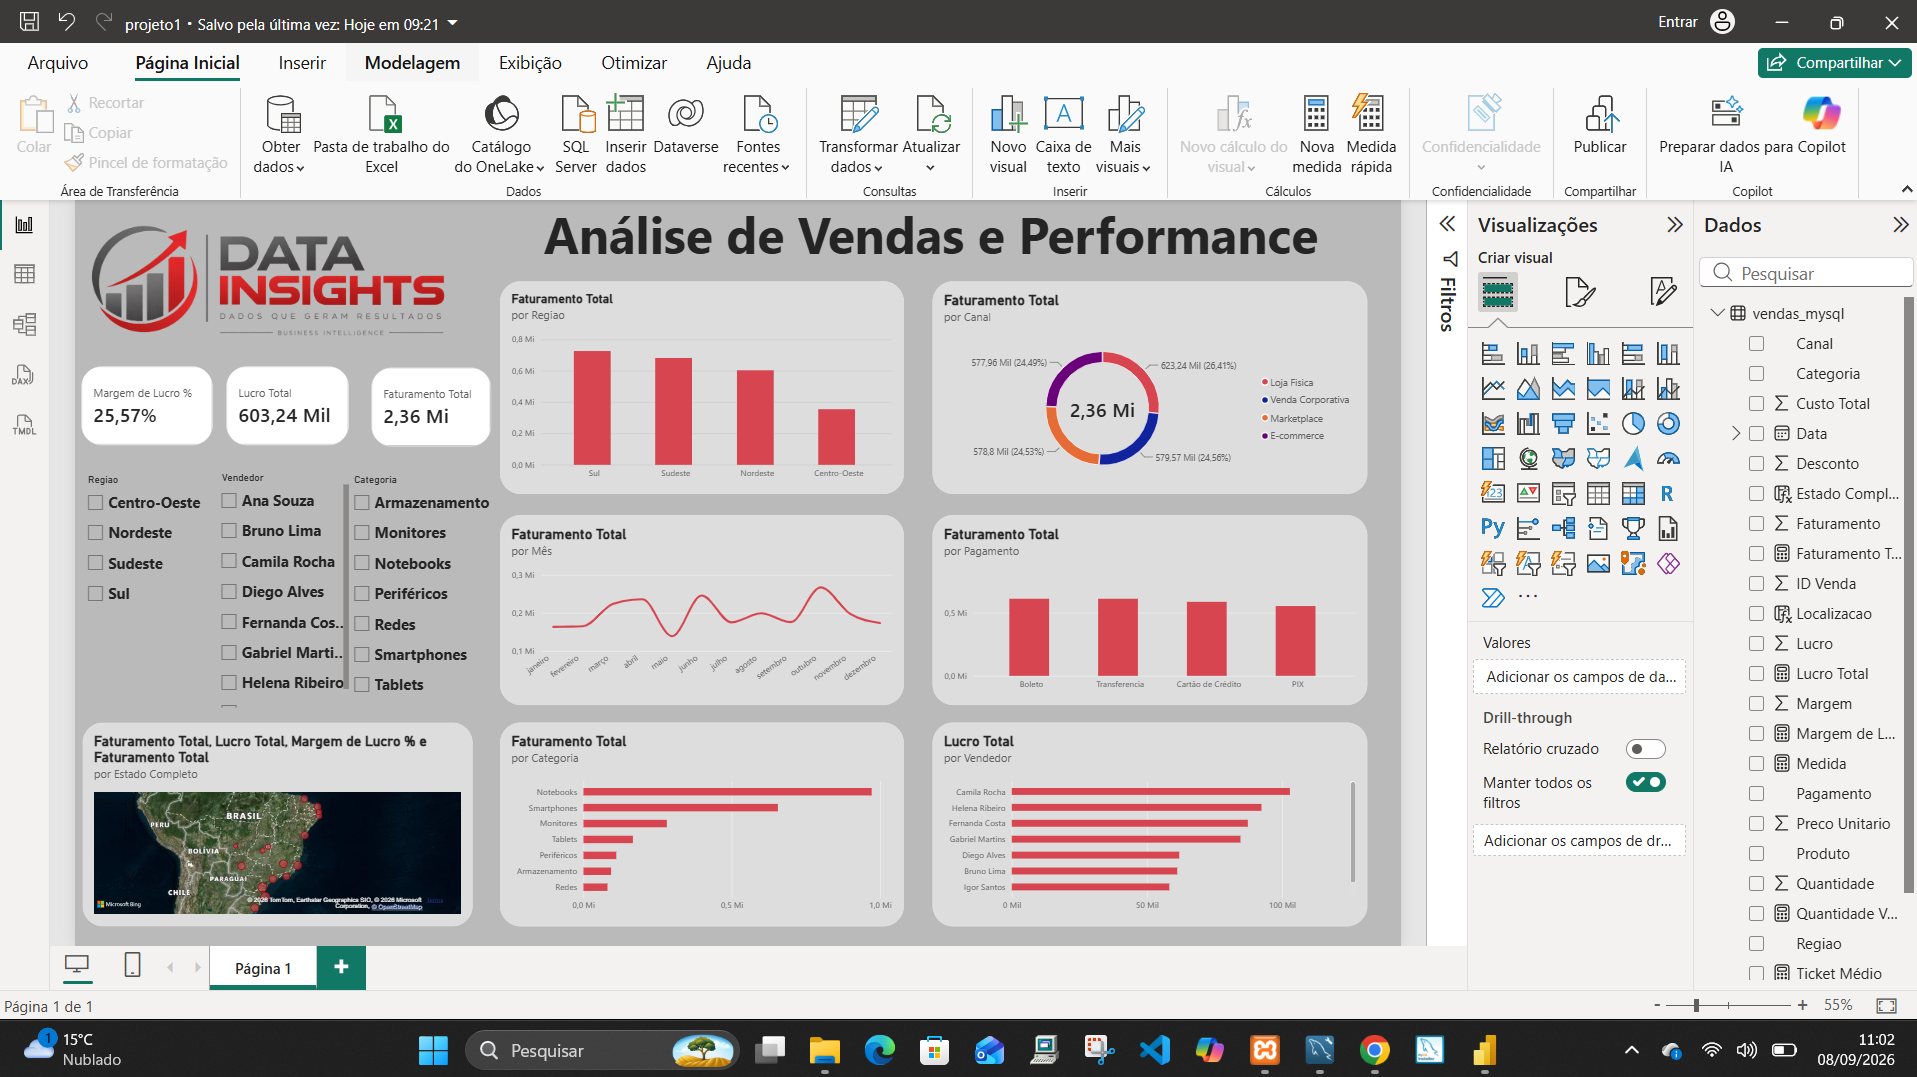

This screenshot's page, from the dashboard's own definition file:
{"tool":"powerbi","page":{"name":"Página 1","canvas":[1920,1080],"ordinal":0},"visuals":[{"type":"clusteredBarChart","fields":{"Category":["vendas_mysql.Categoria"],"Y":["vendas_mysql.Faturamento Total"]},"box":[615.3,756.4,584.5,295],"z":0},{"type":"cardVisual","fields":{"Data":["vendas_mysql.Faturamento Total"]},"box":[428.9,242.5,173.7,114],"z":1},{"type":"cardVisual","fields":{"Data":["vendas_mysql.Lucro Total"]},"box":[219,240.7,177.3,114],"z":2},{"type":"cardVisual","fields":{"Data":["vendas_mysql.Margem de Lucro %"]},"box":[9,240.7,190,114],"z":3},{"type":"lineChart","fields":{"Category":["vendas_mysql.Data.Variation.Hierarquia de datas.Mês"],"Y":["vendas_mysql.Faturamento Total"]},"box":[615.3,456,584.5,275.1],"z":4},{"type":"barChart","fields":{"Category":["vendas_mysql.Vendedor"],"Y":["vendas_mysql.Lucro Total"]},"box":[1241.4,756.4,629.8,295],"z":5},{"type":"columnChart","fields":{"Category":["vendas_mysql.Regiao"],"Y":["vendas_mysql.Faturamento Total"]},"box":[615.3,117.6,584.5,307.6],"z":6},{"type":"donutChart","fields":{"Category":["vendas_mysql.Canal"],"Y":["vendas_mysql.Faturamento Total"]},"box":[1241.4,117.6,629.8,307.6],"z":7},{"type":"columnChart","fields":{"Category":["vendas_mysql.Pagamento"],"Y":["vendas_mysql.Faturamento Total"]},"box":[1241.4,456,629.8,275.1],"z":8},{"type":"slicer","fields":{"Values":["vendas_mysql.Regiao"]},"box":[10.9,396.3,190,334.8],"z":9},{"type":"slicer","fields":{"Values":["vendas_mysql.Categoria"]},"box":[396.3,396.3,219,338.4],"z":10},{"type":"slicer","fields":{"Values":["vendas_mysql.Vendedor"]},"box":[204.5,392.7,191.8,342],"z":11},{"type":"image","box":[0,0,396.3,235.3],"z":12},{"type":"textbox","box":[908.4,0,731.1,117.6],"z":15}]}

Visuals, with their boxes on the page's 1920x1080 design canvas (x1, y1, x2, y2). These are canvas units, not pixel positions in the 1917x1077 screenshot, which may show the page scaled, cropped or inside an application window:
clusteredBarChart - vendas_mysql.Categoria x vendas_mysql.Faturamento Total: 615:756:1200:1051
cardVisual - vendas_mysql.Faturamento Total: 429:242:603:356
cardVisual - vendas_mysql.Lucro Total: 219:241:396:355
cardVisual - vendas_mysql.Margem de Lucro %: 9:241:199:355
lineChart - vendas_mysql.Data.Variation.Hierarquia de datas.Mês x vendas_mysql.Faturamento Total: 615:456:1200:731
barChart - vendas_mysql.Vendedor x vendas_mysql.Lucro Total: 1241:756:1871:1051
columnChart - vendas_mysql.Regiao x vendas_mysql.Faturamento Total: 615:118:1200:425
donutChart - vendas_mysql.Canal x vendas_mysql.Faturamento Total: 1241:118:1871:425
columnChart - vendas_mysql.Pagamento x vendas_mysql.Faturamento Total: 1241:456:1871:731
slicer - vendas_mysql.Regiao: 11:396:201:731
slicer - vendas_mysql.Categoria: 396:396:615:735
slicer - vendas_mysql.Vendedor: 204:393:396:735
image: 0:0:396:235
textbox: 908:0:1640:118
